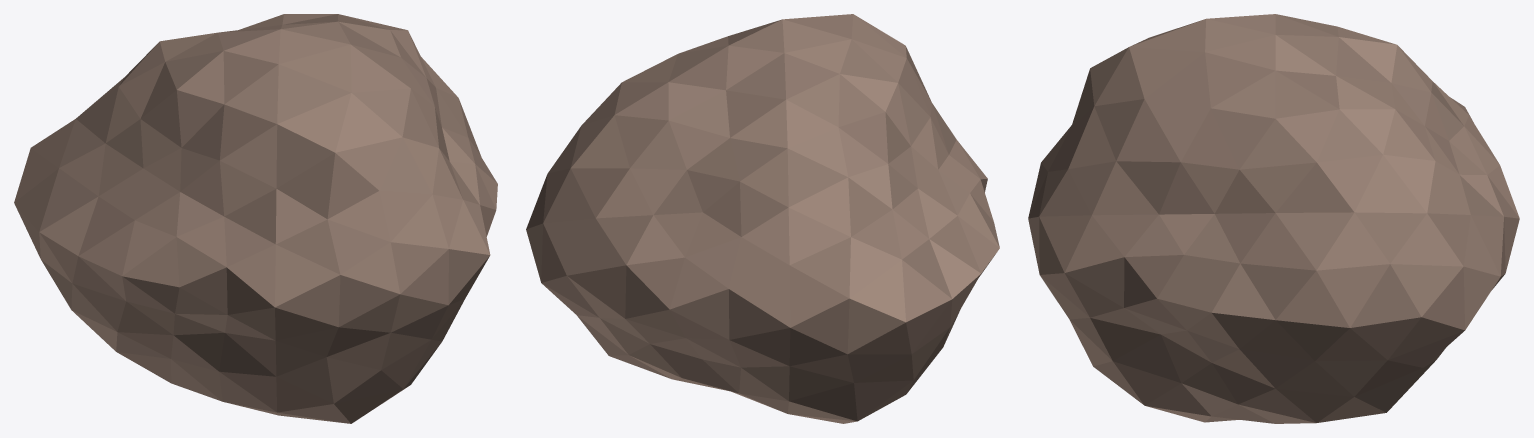
The model's file is Asteroid_Warm.glb.
The picture shows the model from 3 angles, left to right: view 1: azimuth 30°, elevation 25°; view 2: azimuth 150°, elevation 25°; view 3: azimuth 270°, elevation 25°; orthographic projection. The views are drawn at different scales.
Visible parts, largest first — view 1: Fractured rock; view 2: Fractured rock; view 3: Fractured rock.
Part boxes in pixels (<box>): Fractured rock: <box>14,14,497,423</box>; Fractured rock: <box>526,14,999,423</box>; Fractured rock: <box>1028,14,1519,423</box>.
Size of the model in its own units: 2.03 by 1.64 by 1.97.
